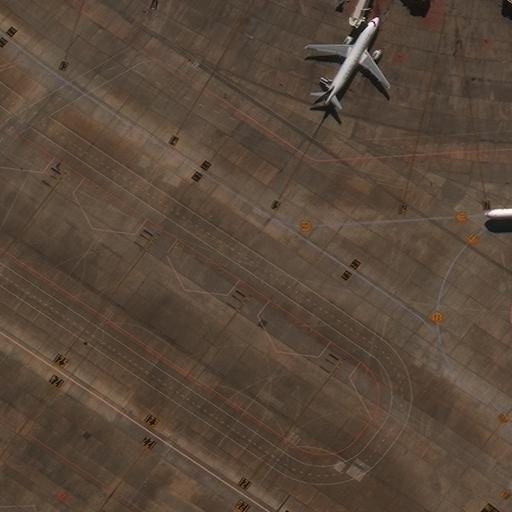Medium Civil Transport: (307, 16, 391, 103)
